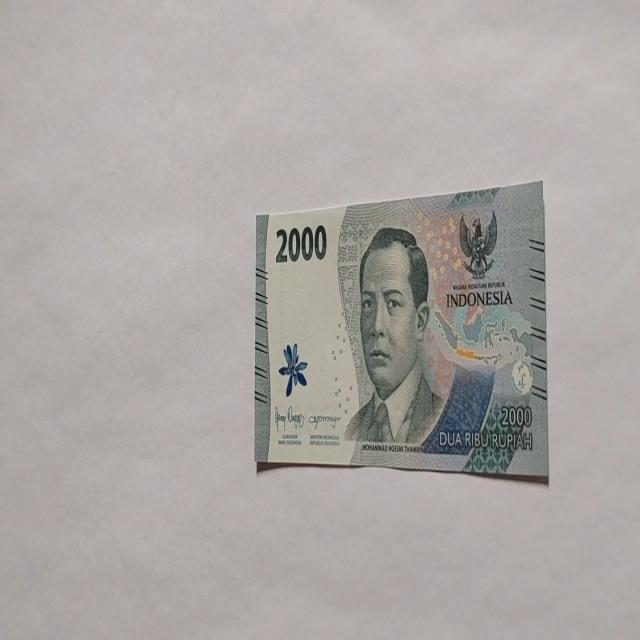dua ribu rupiah: (255, 180, 548, 480), (343, 226, 445, 449)
